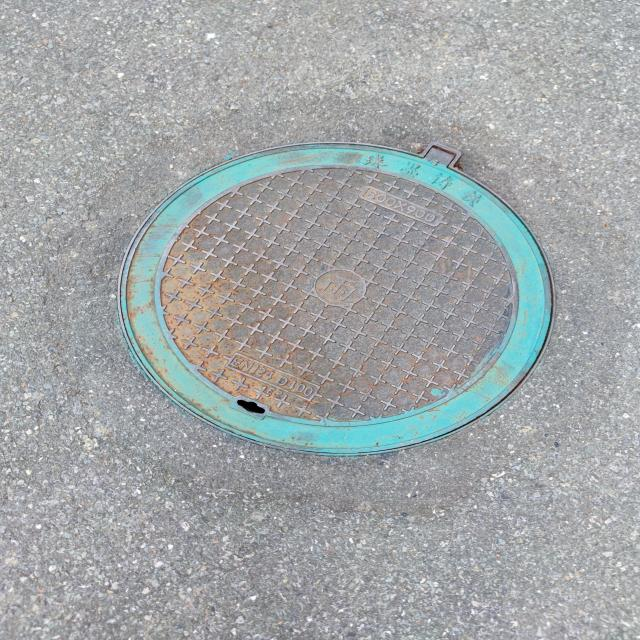Good: (114, 135, 561, 459)
